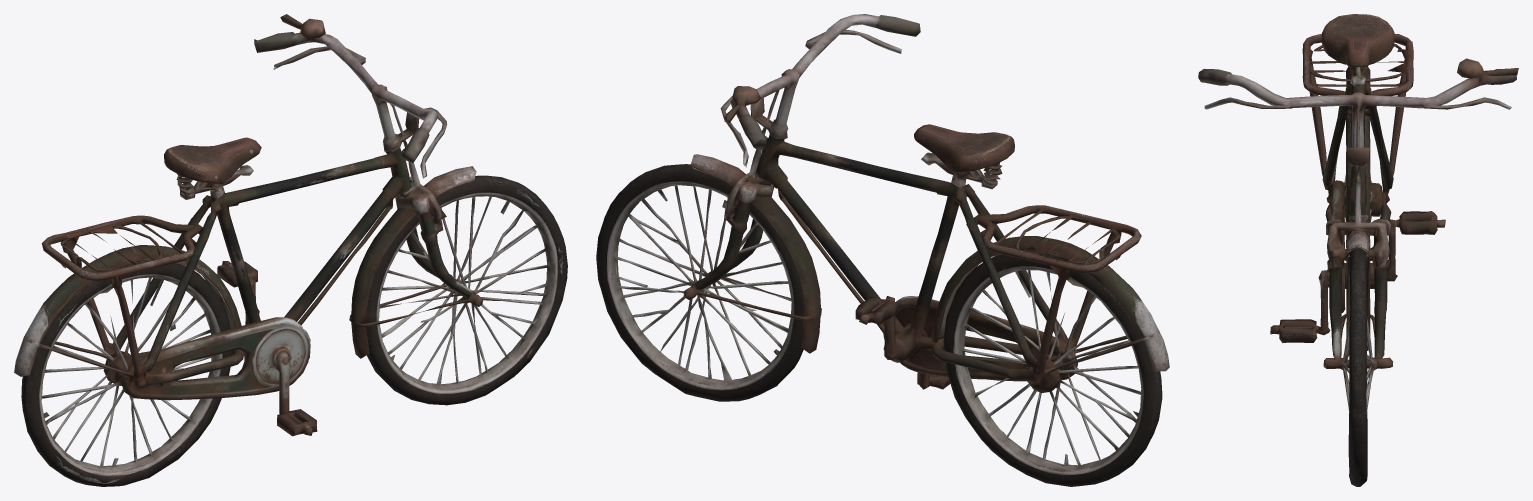
The model's file is bicycle.glb.
3 views of the same model, side by side, from view 1: azimuth 30°, elevation 25°; view 2: azimuth 150°, elevation 25°; view 3: azimuth 270°, elevation 25° (orthographic). The views are drawn at different scales.
Visible parts, largest first — view 1: tripo_node_2b776c1e-7e1c-400f-aaf2-9c7c9a1ce193; view 2: tripo_node_2b776c1e-7e1c-400f-aaf2-9c7c9a1ce193; view 3: tripo_node_2b776c1e-7e1c-400f-aaf2-9c7c9a1ce193.
Boxes of the visible parts, x1,y1,x2,y2 form: tripo_node_2b776c1e-7e1c-400f-aaf2-9c7c9a1ce193: (14, 14, 567, 486); tripo_node_2b776c1e-7e1c-400f-aaf2-9c7c9a1ce193: (596, 14, 1169, 486); tripo_node_2b776c1e-7e1c-400f-aaf2-9c7c9a1ce193: (1198, 14, 1518, 486).
Size of the model in its own units: 1 by 0.6303 by 0.4978.
Materials: 1 (1 with a texture image).
